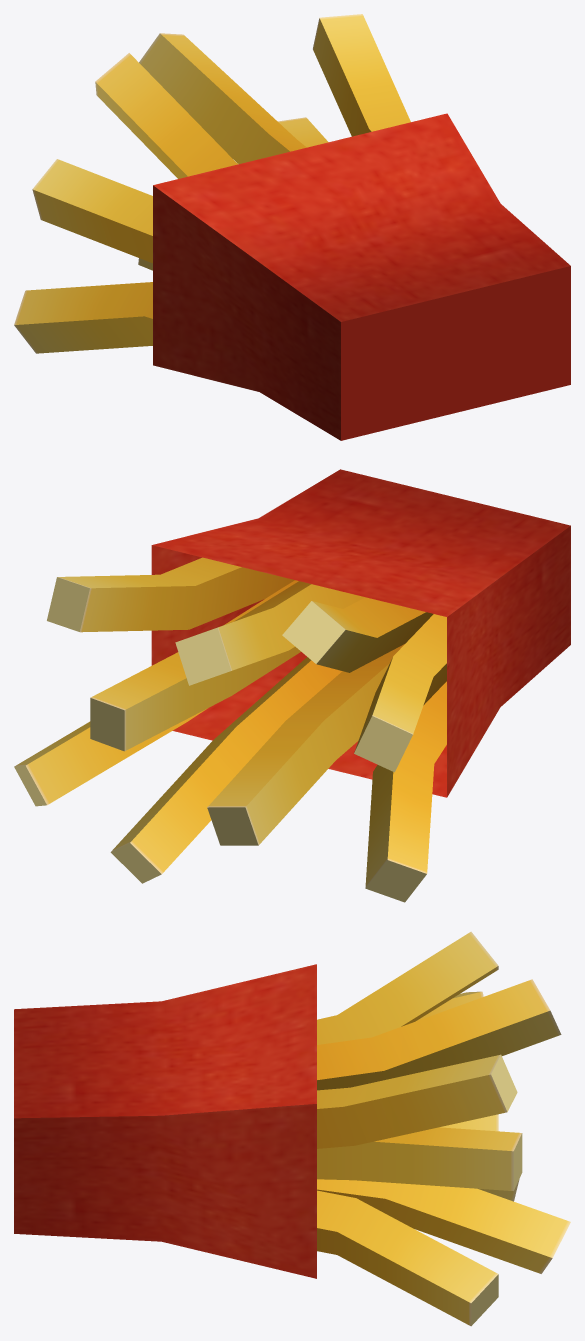
The model's file is Fries.fbx.
The picture shows the model from 3 angles, top to bottom: view 1: azimuth 30°, elevation 25°; view 2: azimuth 150°, elevation 25°; view 3: azimuth 270°, elevation 25°; orthographic projection. The views are drawn at different scales.
Parts seen in each view (by area): view 1: Fries; view 2: Fries; view 3: Fries.
Boxes of the visible parts, x1,y1,x2,y2 form: Fries: (14, 14, 570, 440); Fries: (14, 469, 570, 902); Fries: (14, 931, 570, 1326).
Bounding box in the file's own units: 11.21 × 13.5 × 7.49.
